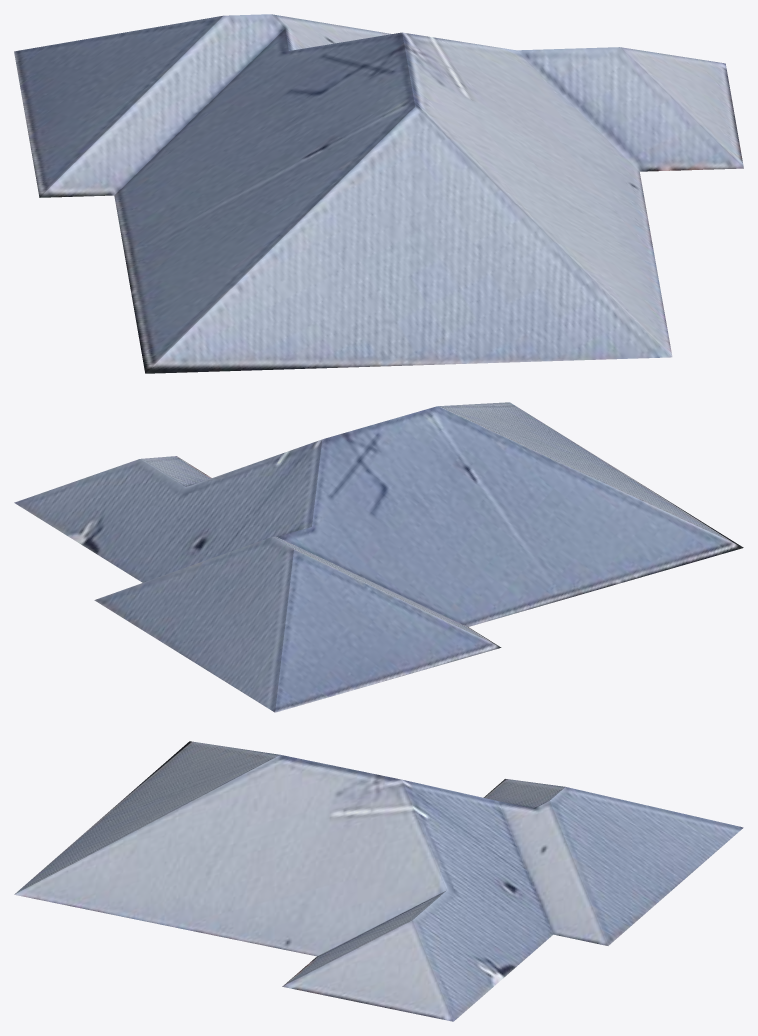
The model's file is BK39_500_017024_0023_roof.obj.
The picture shows the model from 3 angles, top to bottom: view 1: azimuth 30°, elevation 25°; view 2: azimuth 150°, elevation 25°; view 3: azimuth 270°, elevation 25°; orthographic projection. The views are drawn at different scales.
Visible parts, largest first — view 1: BK39_500_017024_0023_roof; view 2: BK39_500_017024_0023_roof; view 3: BK39_500_017024_0023_roof.
Boxes of the visible parts, <box> form: BK39_500_017024_0023_roof: <box>14,14,743,373</box>; BK39_500_017024_0023_roof: <box>14,402,743,712</box>; BK39_500_017024_0023_roof: <box>14,741,743,1021</box>.
Size of the model in its own units: 386 by 70 by 424.
1 material, 1 textured.
